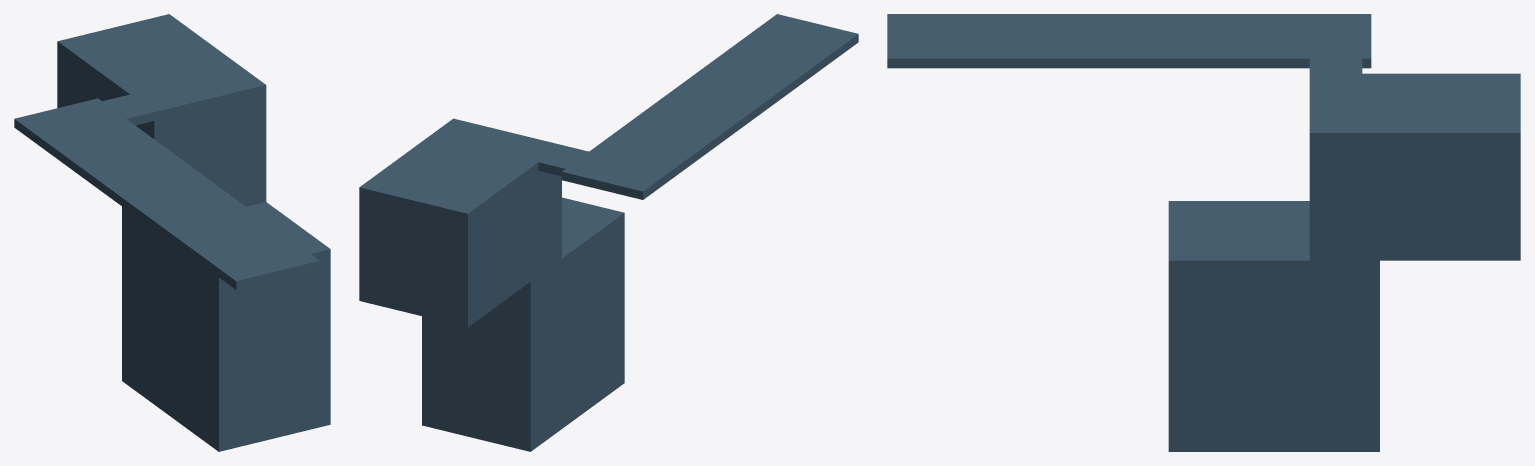
Rendered from v02-04-04-deck.glb.
3 renders of one model, left to right at view 1: azimuth 30°, elevation 25°; view 2: azimuth 150°, elevation 25°; view 3: azimuth 270°, elevation 25°, orthographic. The views are drawn at different scales.
Visible parts, largest first — view 1: v02-04-04-deck; view 2: v02-04-04-deck; view 3: v02-04-04-deck.
Part boxes in pixels (x1,y1,x2,y2): v02-04-04-deck: (14,14,330,451); v02-04-04-deck: (359,14,858,451); v02-04-04-deck: (887,14,1520,451).
Bounding box in the file's own units: 16 × 20 × 36.
